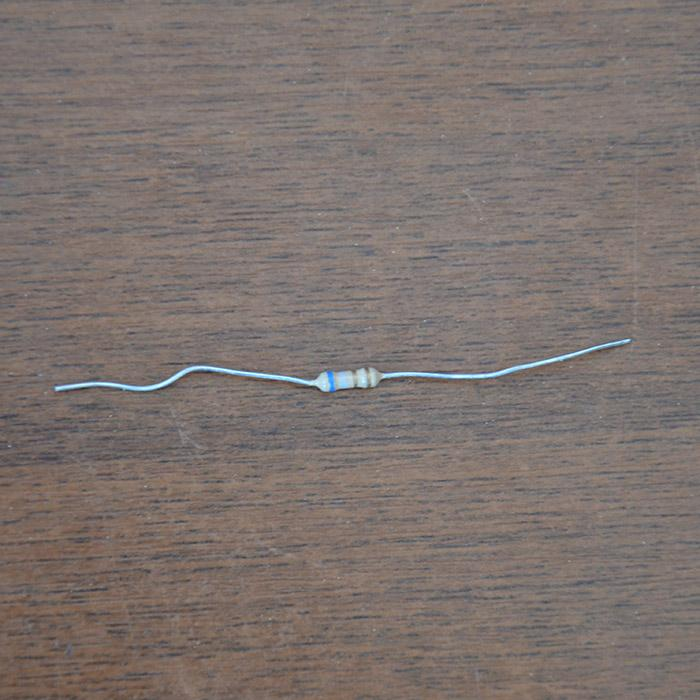resistor: (315, 367, 383, 392)
